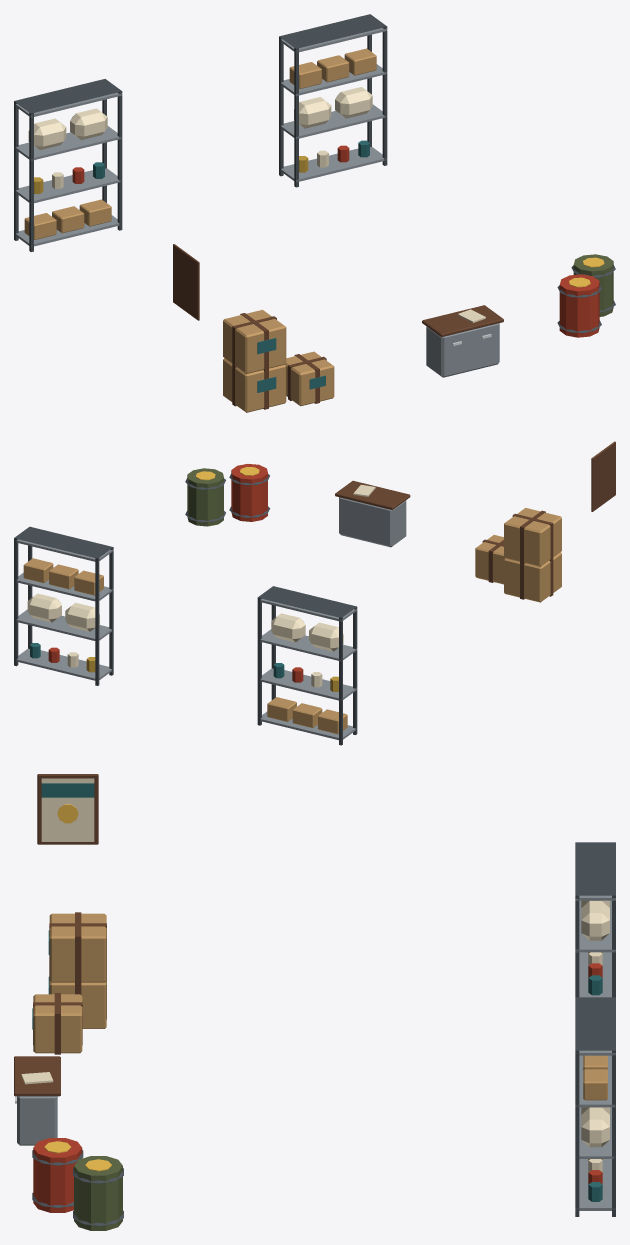
The model's file is Room_Storage_L1.fbx.
3 renders of one model, top to bottom at view 1: azimuth 30°, elevation 25°; view 2: azimuth 150°, elevation 25°; view 3: azimuth 270°, elevation 25°, orthographic. The views are drawn at different scales.
Visible parts, largest first — view 1: Decor, Desk1, Shelf2, Crate2, Shelf1, Barrel1, Crate1, Crate3, Barrel2; view 2: Decor, Desk1, Shelf2, Crate2, Shelf1, Crate1, Barrel1, Barrel2, Crate3; view 3: Decor, Crate2, Shelf2, Barrel2, Barrel1, Crate3, Shelf1, Desk1, Crate1.
Boxes of the visible parts, x1,y1,x2,y2 form: Decor: (14, 27, 615, 409); Desk1: (426, 323, 499, 377); Shelf2: (279, 14, 387, 181); Crate2: (223, 309, 286, 373); Shelf1: (14, 79, 121, 246); Barrel1: (559, 274, 599, 337); Crate1: (223, 358, 286, 412); Crate3: (285, 351, 334, 406); Barrel2: (573, 254, 613, 316); Decor: (14, 441, 615, 745); Desk1: (339, 497, 406, 547); Shelf2: (14, 526, 113, 680); Crate2: (504, 507, 561, 566); Shelf1: (258, 586, 356, 740); Crate1: (504, 552, 561, 602); Barrel1: (231, 464, 267, 521); Barrel2: (187, 468, 223, 526); Crate3: (475, 535, 504, 584); Decor: (14, 774, 615, 1226); Crate2: (49, 913, 106, 982); Shelf2: (575, 997, 615, 1210); Barrel2: (74, 1156, 122, 1230); Barrel1: (33, 1138, 82, 1212); Crate3: (33, 994, 82, 1053); Shelf1: (575, 842, 615, 895); Desk1: (17, 1096, 57, 1145); Crate1: (49, 981, 106, 1028).
Size of the model in its own units: 29.92 by 10.92 by 29.55.
